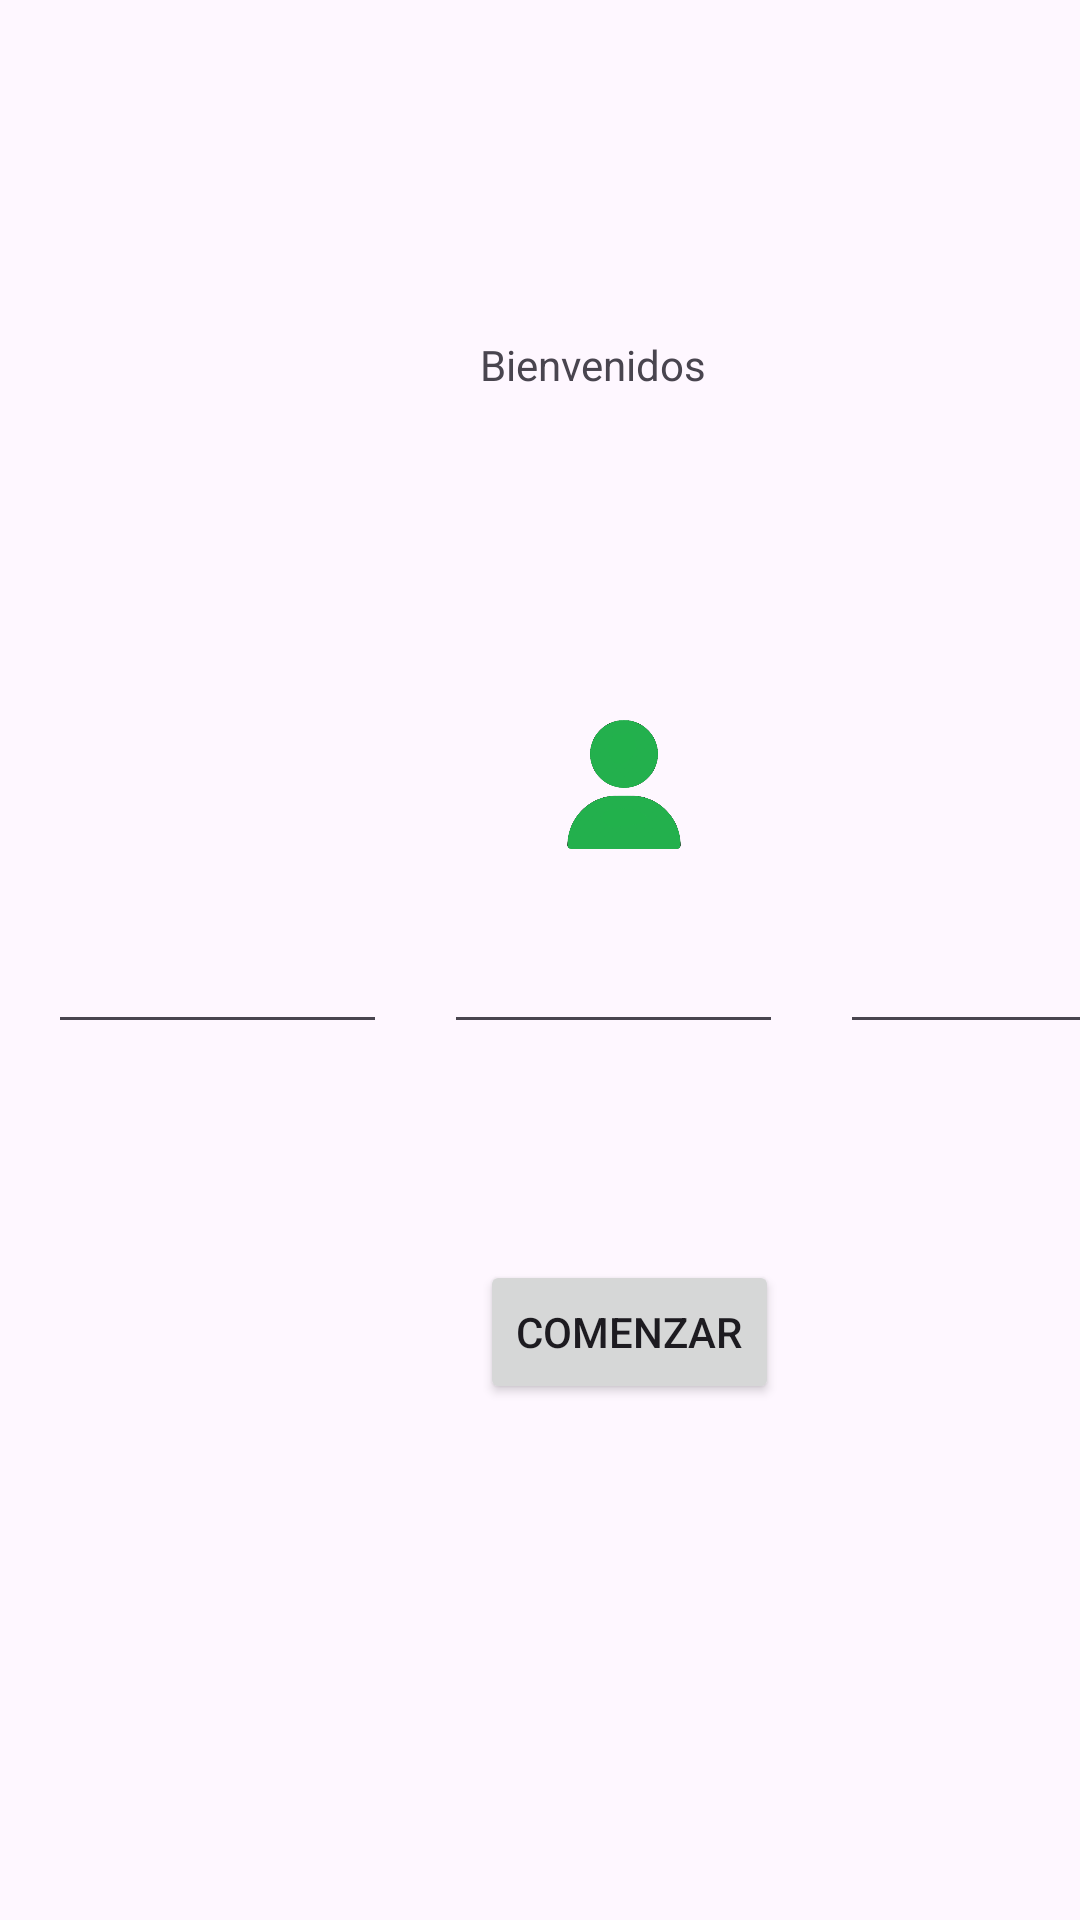

Screen size 1080*1920. Icon name, then its box in pixels as (x1, y1, x2, y2):
jugador: (567, 720, 681, 849)
